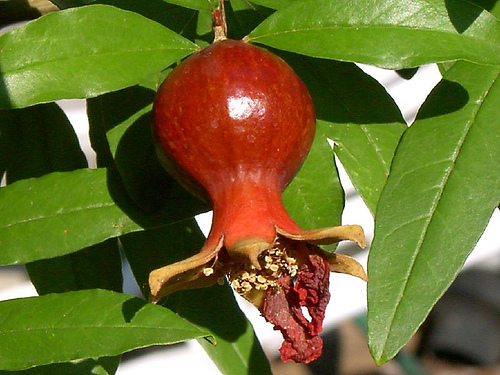pomogranate: (149, 38, 370, 364)
